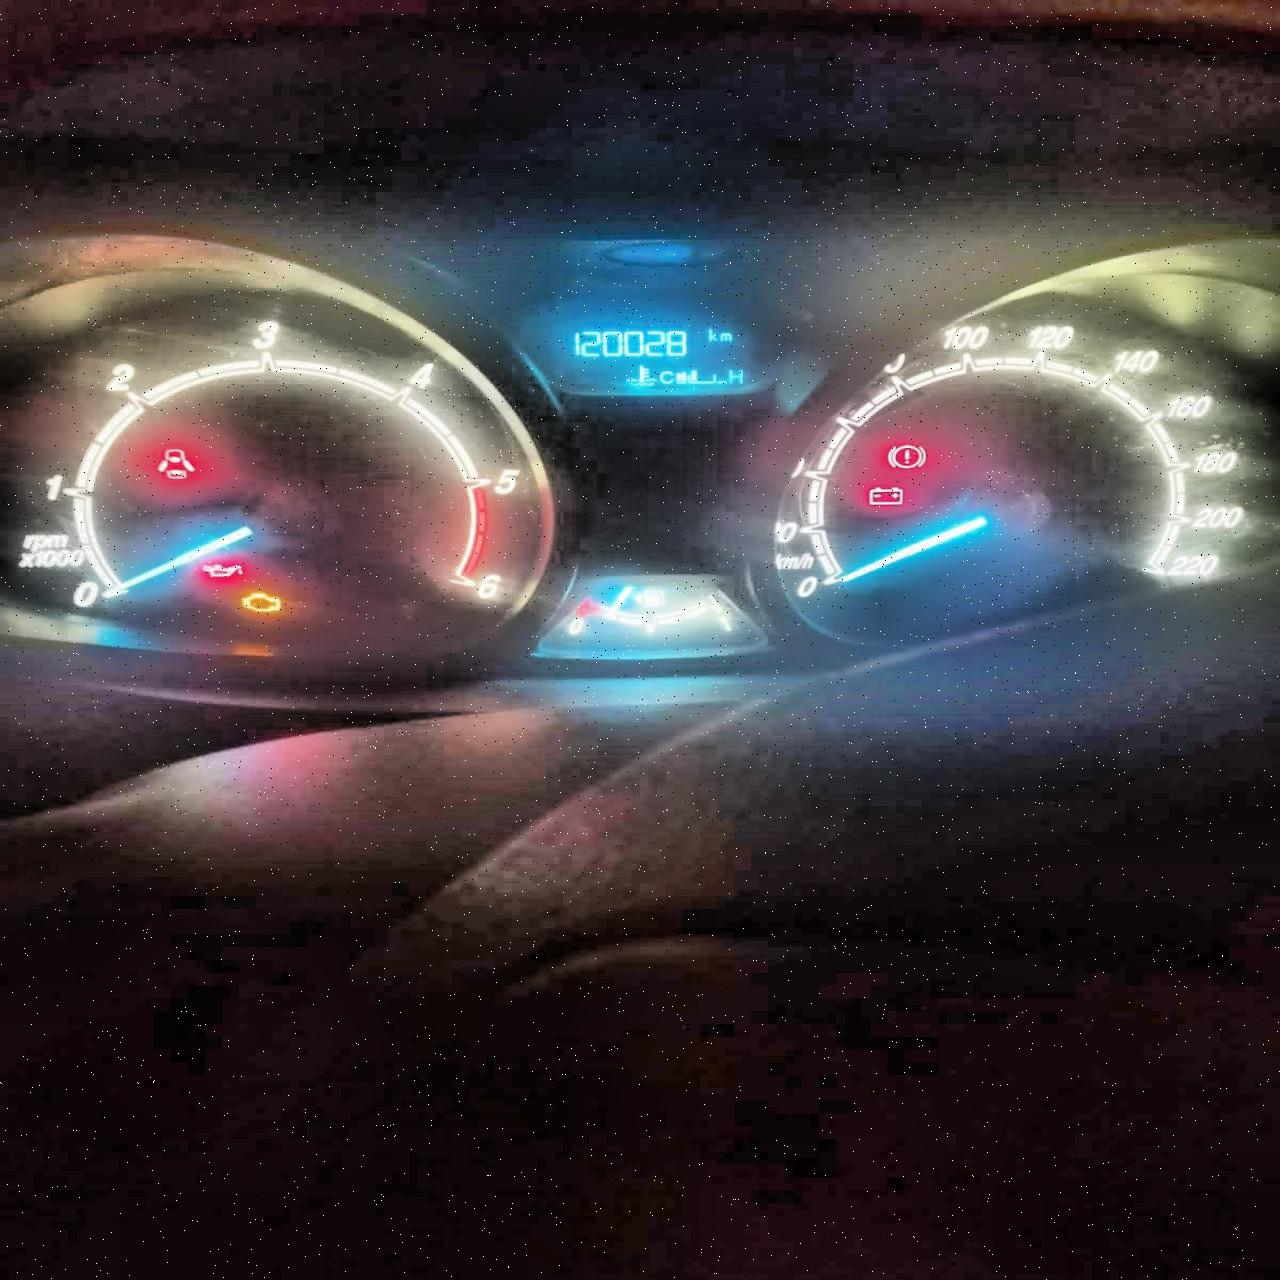0: (622, 331, 644, 355), (601, 331, 621, 355)
1: (573, 332, 579, 354)
2: (579, 331, 601, 355), (645, 331, 665, 355)
8: (665, 331, 686, 355)
X: (728, 368, 742, 383), (658, 370, 673, 383), (707, 328, 716, 341), (719, 332, 731, 341)
odometer: (563, 319, 762, 387)
